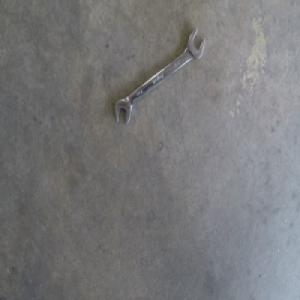Wrench: (115, 28, 205, 125)
